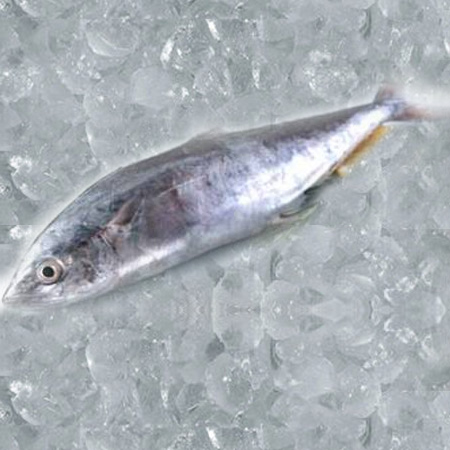Surmai: (1, 68, 431, 314)
